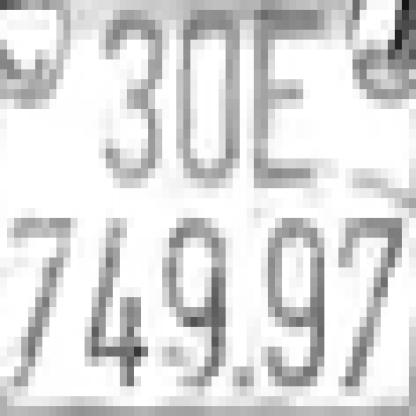0: (176, 10, 233, 188)
3: (99, 10, 162, 188)
4: (85, 208, 148, 366)
7: (331, 208, 395, 376), (7, 208, 71, 376)
9: (254, 218, 317, 376), (162, 208, 219, 376)
E: (247, 10, 317, 188)
